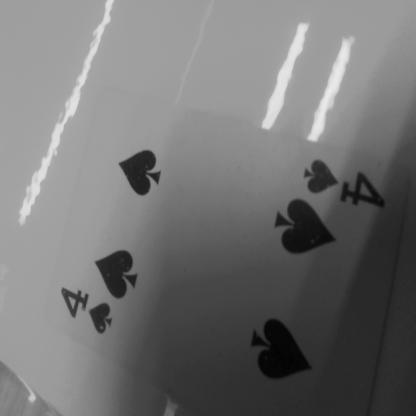4S: (48, 270, 121, 340)
